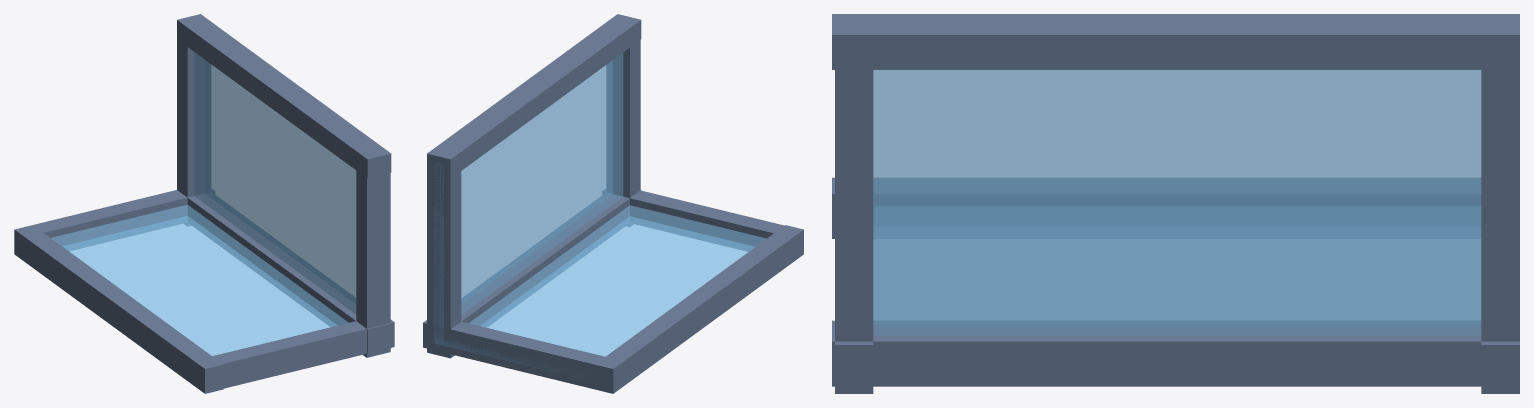
Rendered from 08_window_corner.glb.
The picture shows the model from 3 angles, left to right: view 1: azimuth 30°, elevation 25°; view 2: azimuth 150°, elevation 25°; view 3: azimuth 270°, elevation 25°; orthographic projection. The views are drawn at different scales.
Visible parts, largest first — view 1: part_2, part_1, part_7, part_8, part_9, part_4, part_3, part_6, part_5; view 2: part_2, part_1, part_7, part_8, part_9, part_5, part_6, part_4, part_3; view 3: part_2, part_1, part_9, part_8, part_7, part_4, part_6, part_5, part_3.
Part boxes in pixels (left/top/right/bottom): part_2: left=194, top=52, right=356, bottom=313; part_1: left=51, top=204, right=348, bottom=355; part_7: left=14, top=225, right=223, bottom=393; part_8: left=177, top=14, right=391, bottom=178; part_9: left=187, top=192, right=391, bottom=354; part_4: left=356, top=157, right=390, bottom=357; part_3: left=200, top=319, right=394, bottom=388; part_6: left=177, top=26, right=210, bottom=225; part_5: left=20, top=189, right=214, bottom=250; part_2: left=433, top=53, right=623, bottom=343; part_1: left=435, top=205, right=766, bottom=381; part_7: left=594, top=225, right=803, bottom=393; part_8: left=427, top=14, right=641, bottom=178; part_9: left=427, top=190, right=641, bottom=353; part_5: left=423, top=320, right=617, bottom=392; part_6: left=427, top=157, right=461, bottom=358; part_4: left=606, top=26, right=640, bottom=226; part_3: left=602, top=189, right=797, bottom=251; part_2: left=873, top=70, right=1481, bottom=335; part_1: left=874, top=226, right=1480, bottom=319; part_9: left=832, top=320, right=1481, bottom=386; part_8: left=832, top=14, right=1519, bottom=69; part_7: left=832, top=177, right=1480, bottom=238; part_4: left=835, top=45, right=873, bottom=393; part_6: left=1481, top=45, right=1519, bottom=393; part_5: left=1481, top=341, right=1519, bottom=389; part_3: left=835, top=341, right=873, bottom=389.
Bounding box in the file's own units: 1.44 × 1.44 × 2.5.
